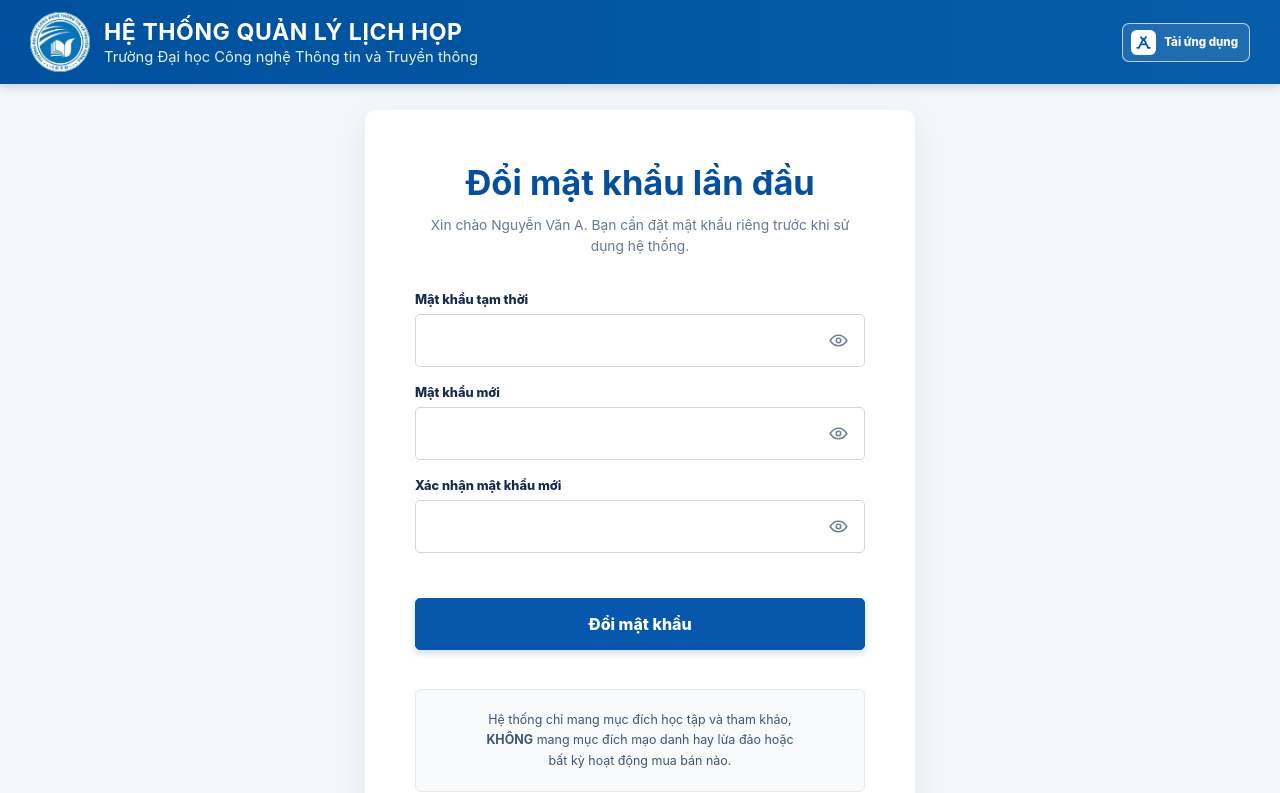
Test: LoginPage › requires matching new passwords on first login
Type "ICTU123" into the password field labelled "Mật khẩu tạm thời". click: (640, 340)
box: [415,314,865,367]
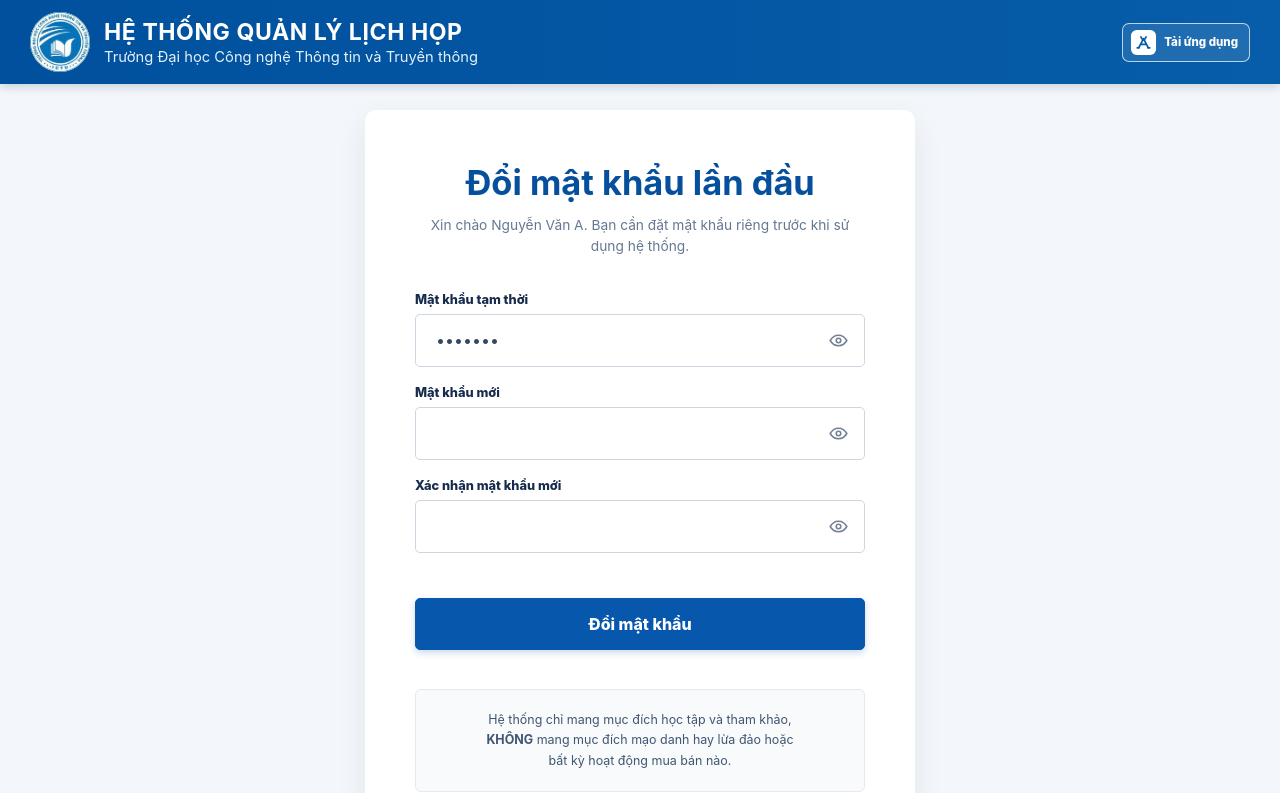
Type "Password123!" into the password field labelled "Mật khẩu mới". click: (640, 433)
box: [415,407,865,460]
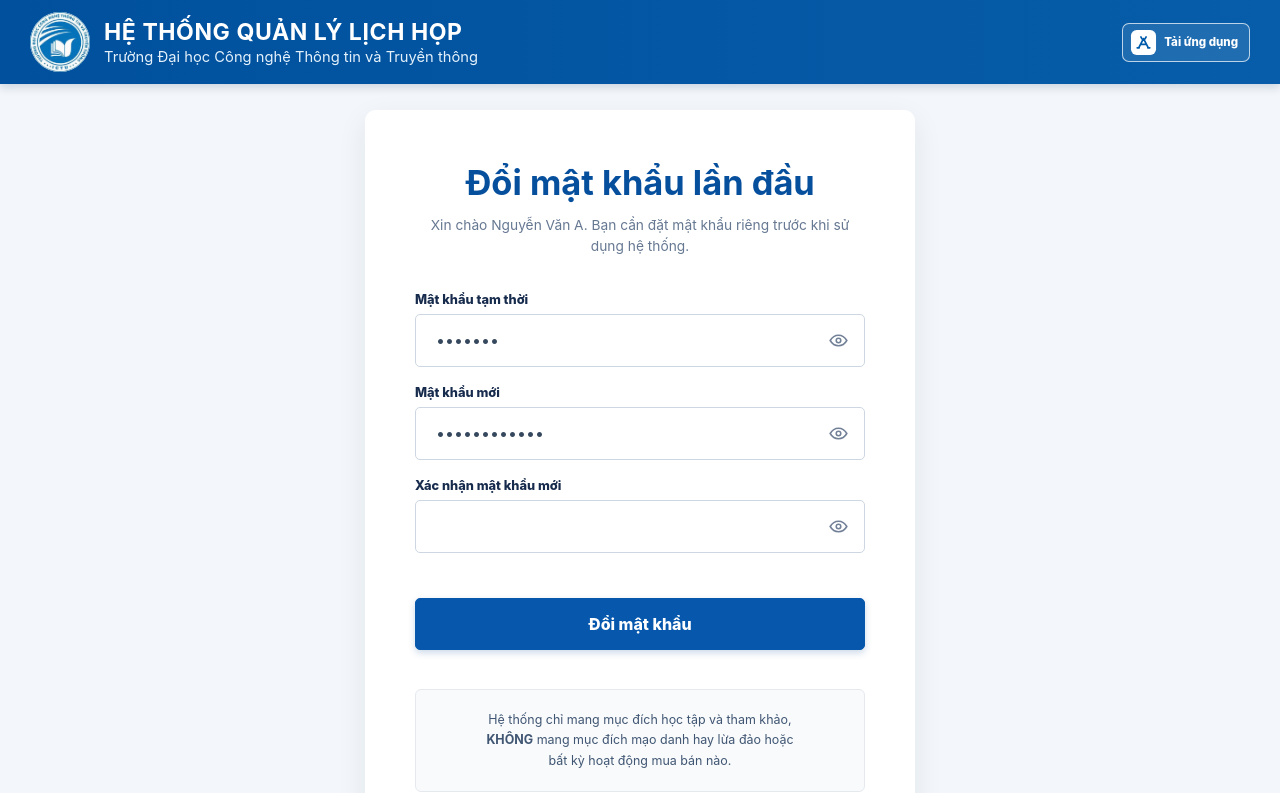
Type "KhacPassword123!" into the password field labelled "Xác nhận mật khẩu mới". click: (640, 526)
box: [415,500,865,553]
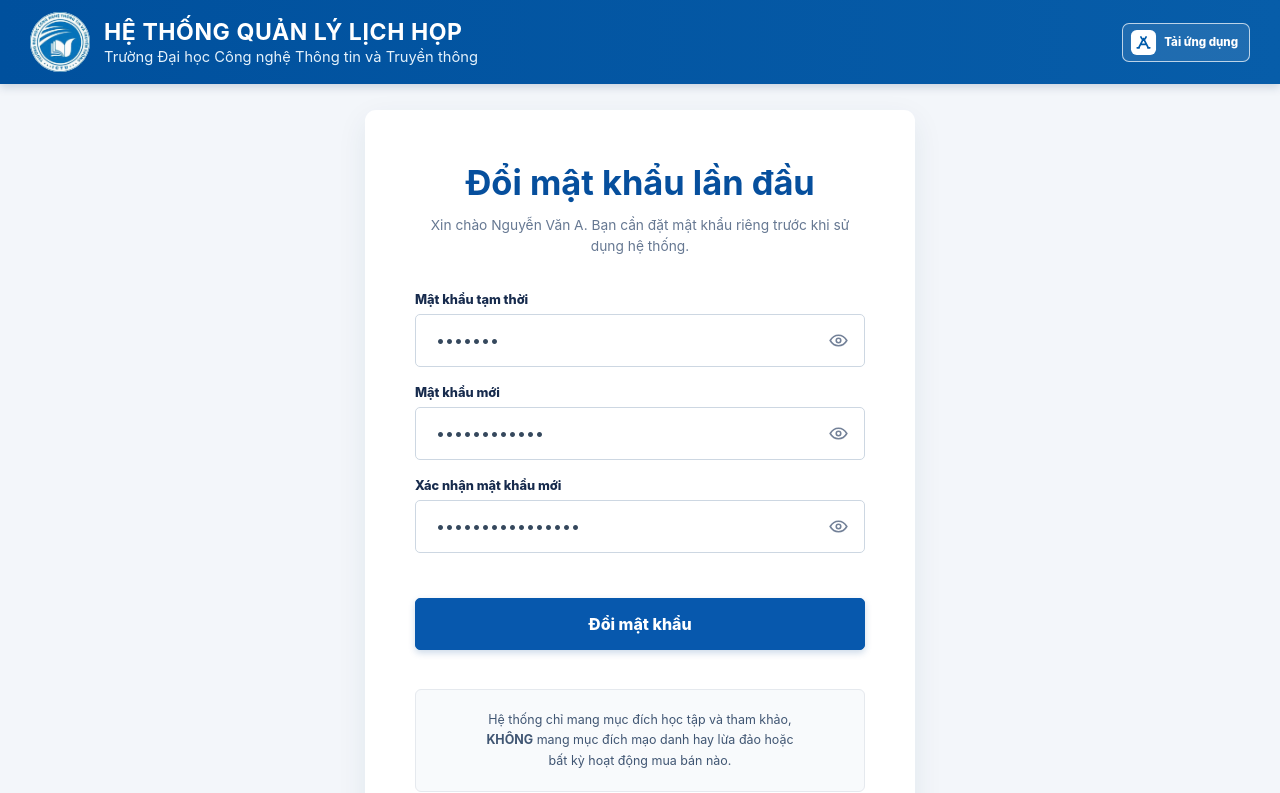
Click the button "Đổi mật khẩu". click: (640, 624)
box: [415,598,865,650]
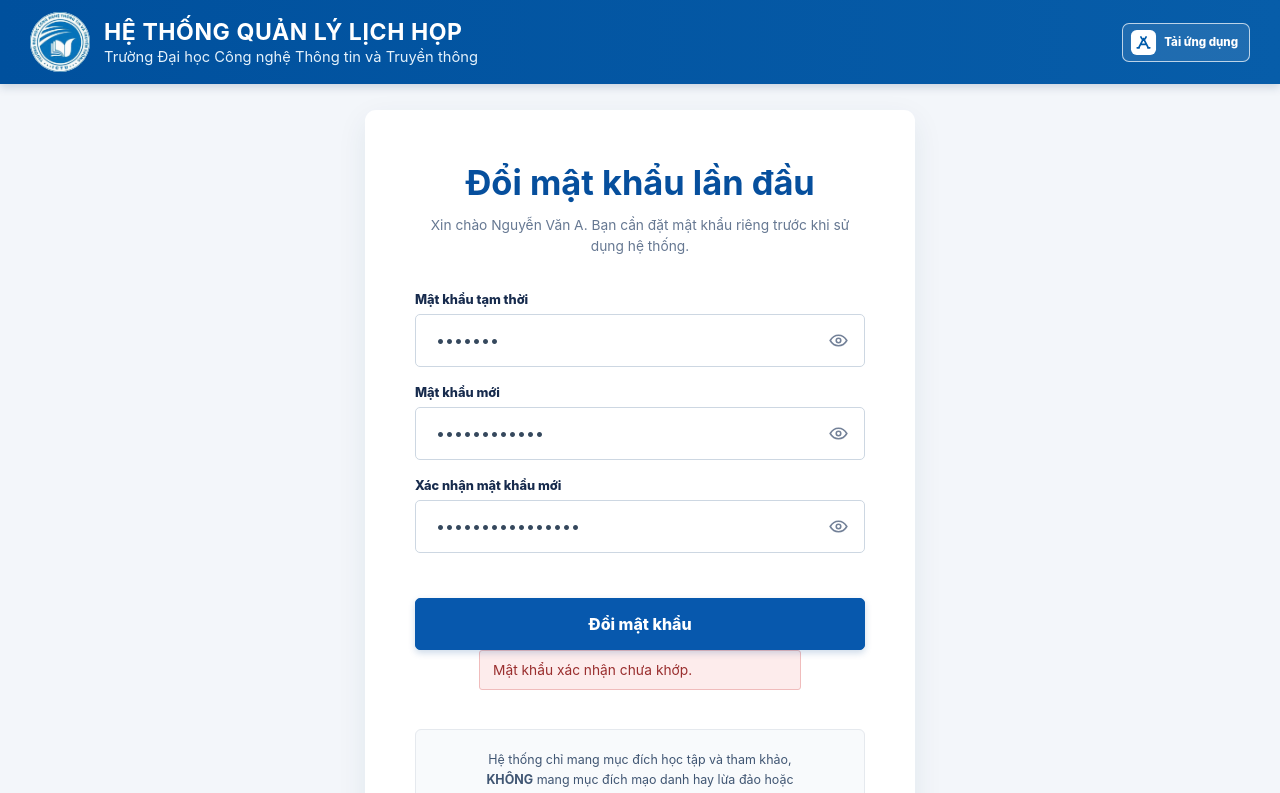
Expected: the message shows "chưa khớp", [493,662,692,678]
